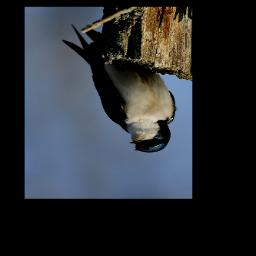Swallow: (61, 23, 176, 153)
